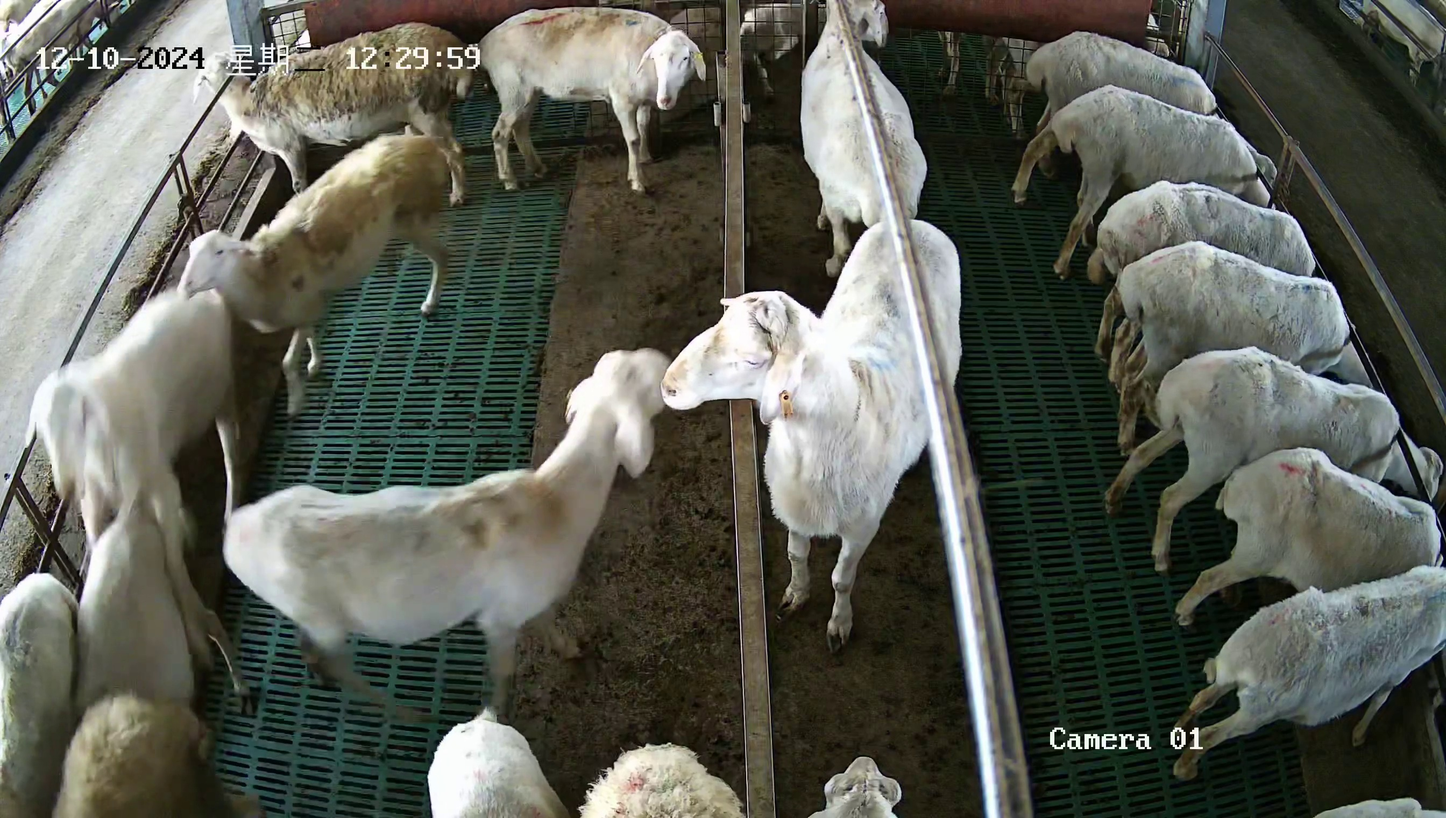Smounting: (24, 279, 256, 708)
mounted: (73, 484, 249, 704)
